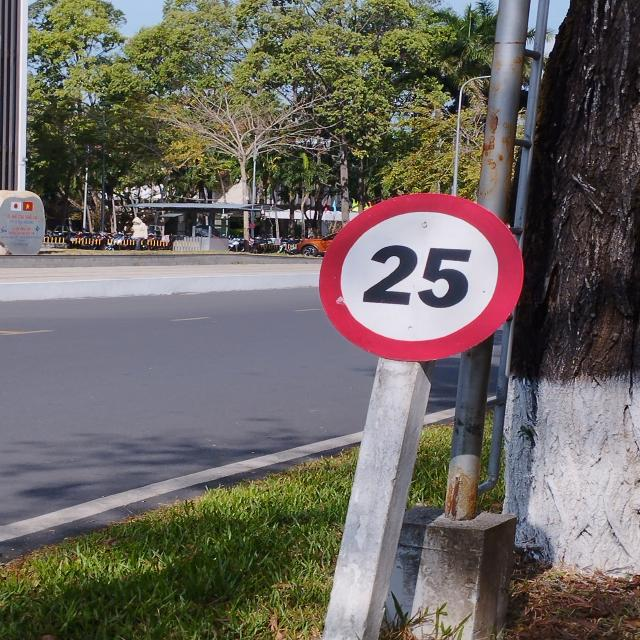Tre_Em: (319, 192, 526, 362)
